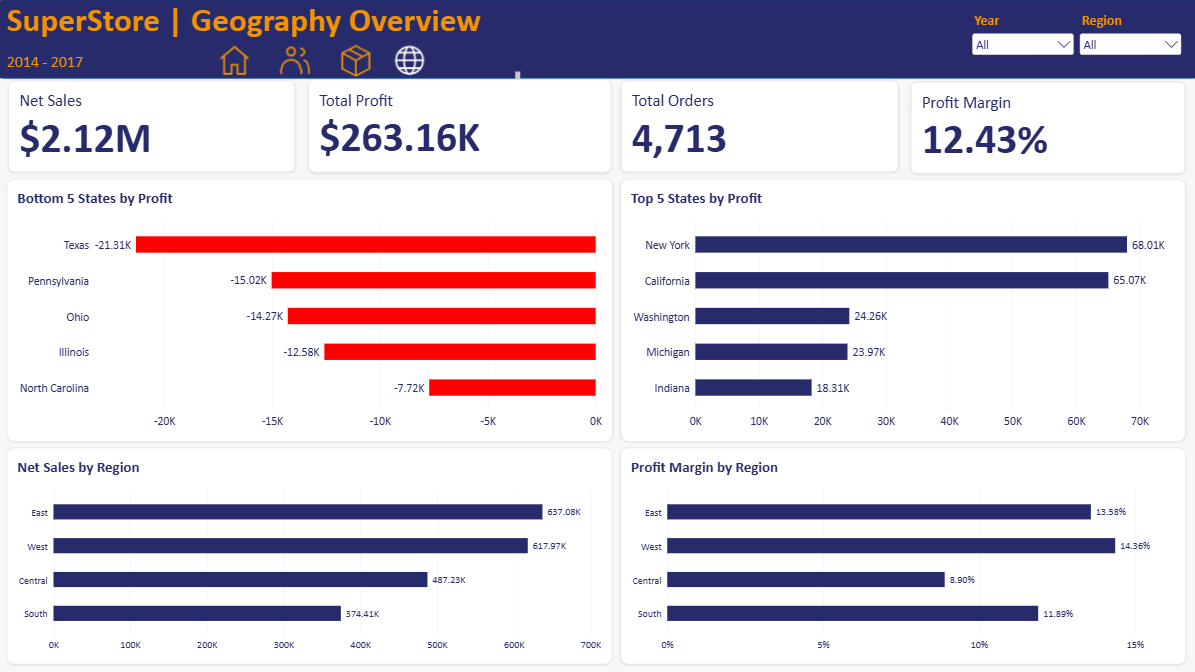

The page's visual inventory and layout, read from the dashboard file:
{"tool":"powerbi","page":{"name":"Geography","canvas":[1920,1080],"ordinal":5},"visuals":[{"type":"shape","box":[0,0,1920.1,128.5],"z":0},{"type":"textbox","title":"SuperStore | Geography Overview","box":[14.5,0,821.6,130.3],"z":1000},{"type":"slicer","title":"Year","fields":{"Values":["Orders.Order Date.Variation.Date Hierarchy.Year"]},"box":[1554.5,19.9,171.9,90.5],"z":2000},{"type":"cardVisual","fields":{"Data":["Orders.Net Sales"]},"box":[16.3,129.4,459.7,148.4],"z":3000},{"type":"cardVisual","fields":{"Data":["Orders.Profit Excluding Returns"]},"box":[495.8,128.5,486.8,150.2],"z":4000},{"type":"cardVisual","fields":{"Data":["Orders.Orders Excluding Returns"]},"box":[995.3,130.3,445.2,148.4],"z":5000},{"type":"cardVisual","fields":{"Data":["Orders.Profit Margin"]},"box":[1459.8,131,440,148],"z":6000},{"type":"slicer","fields":{"Values":["Orders.Region"]},"box":[1726.4,19.9,171.9,74.2],"z":7000},{"type":"clusteredBarChart","title":"Bottom 5 States by Profit","fields":{"Category":["Orders.State"],"Y":["Orders.Profit Excluding Returns"]},"box":[14.4,288.2,969.5,419.9],"z":8000},{"type":"clusteredBarChart","title":"Top 5 States by Profit","fields":{"Category":["Orders.State"],"Y":["Orders.Profit Excluding Returns"]},"box":[996.2,288.2,903.6,419.9],"z":9000},{"type":"clusteredBarChart","fields":{"Category":["Orders.Region"],"Y":["Orders.Net Sales"]},"box":[15,718.4,968.6,346.4],"z":10000},{"type":"clusteredBarChart","title":"Profit Margin by Region","fields":{"Category":["Orders.Region"],"Y":["Orders.Profit Margin"]},"box":[996.3,718.4,904.4,346.4],"z":11000},{"type":"actionButton","box":[426.4,63.8,97,61.3],"z":12000},{"type":"actionButton","box":[329.4,63.8,97,61.3],"z":13000},{"type":"actionButton","box":[523.4,63.8,97,61.3],"z":14000},{"type":"actionButton","box":[610.2,63.8,97,61.3],"z":15000}]}

Visuals, with their boxes in screenshot pixels (x1, y1, x2, y2), scaled from the page's 1920x1080 canvas onto the 1195x672 screenshot:
shape: bbox=[0, 0, 1194, 80]
"SuperStore | Geography Overview" textbox: bbox=[9, 0, 520, 81]
"Year" slicer: bbox=[968, 12, 1075, 69]
cardVisual - Orders.Net Sales: bbox=[10, 81, 296, 173]
cardVisual - Orders.Profit Excluding Returns: bbox=[309, 80, 612, 173]
cardVisual - Orders.Orders Excluding Returns: bbox=[619, 81, 897, 173]
cardVisual - Orders.Profit Margin: bbox=[909, 82, 1182, 174]
slicer - Orders.Region: bbox=[1075, 12, 1181, 59]
"Bottom 5 States by Profit" clusteredBarChart: bbox=[9, 179, 612, 441]
"Top 5 States by Profit" clusteredBarChart: bbox=[620, 179, 1182, 441]
clusteredBarChart - Orders.Region x Orders.Net Sales: bbox=[9, 447, 612, 663]
"Profit Margin by Region" clusteredBarChart: bbox=[620, 447, 1183, 663]
actionButton: bbox=[265, 40, 326, 78]
actionButton: bbox=[205, 40, 265, 78]
actionButton: bbox=[326, 40, 386, 78]
actionButton: bbox=[380, 40, 440, 78]
